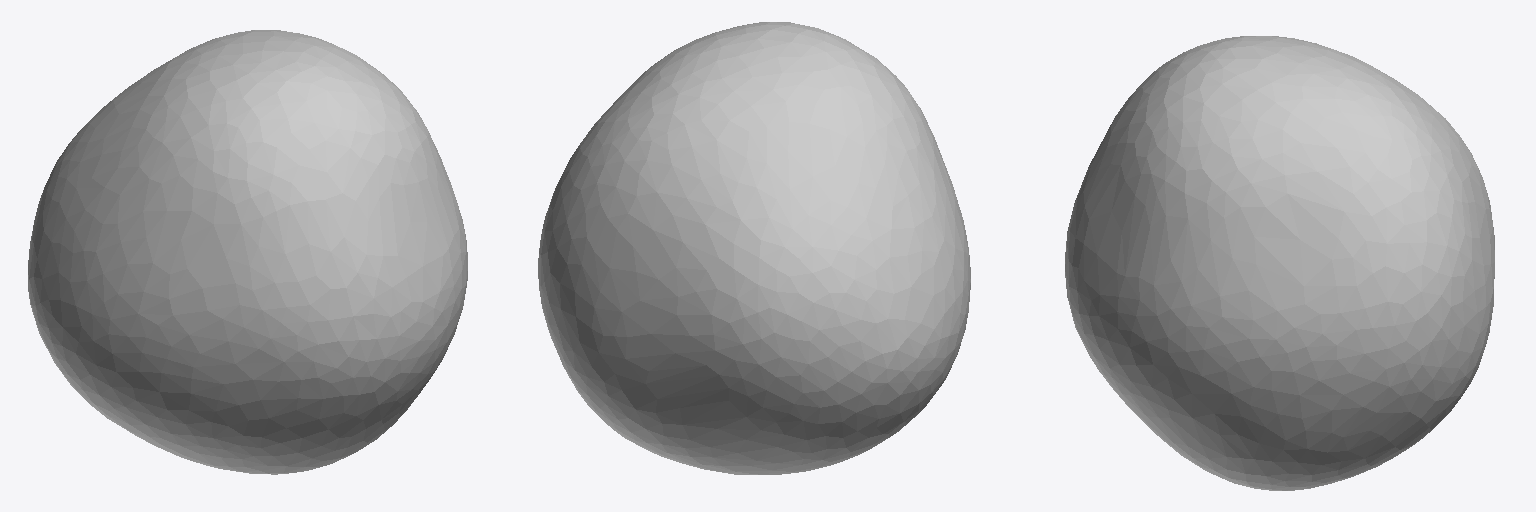
File: moon_s.obj
The picture shows the model from 3 angles: view 1: azimuth 30°, elevation 25°; view 2: azimuth 150°, elevation 25°; view 3: azimuth 270°, elevation 25°; orthographic projection.
Size of the model in its own units: 4.2 by 4.41 by 4.17.